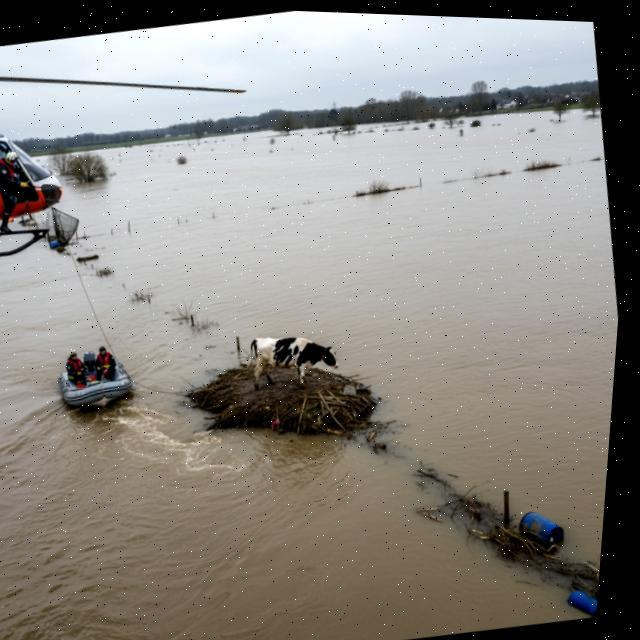cow: (219, 314, 359, 409)
rescuer: (0, 147, 40, 236), (56, 344, 94, 391), (87, 341, 122, 384)
